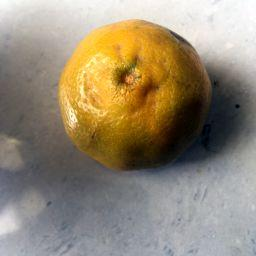Ripe: (61, 21, 211, 163)
